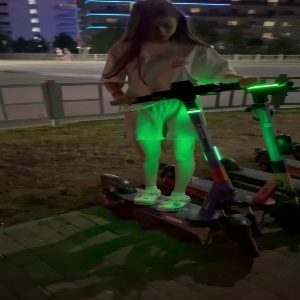human on a scooter: (100, 1, 261, 260)
